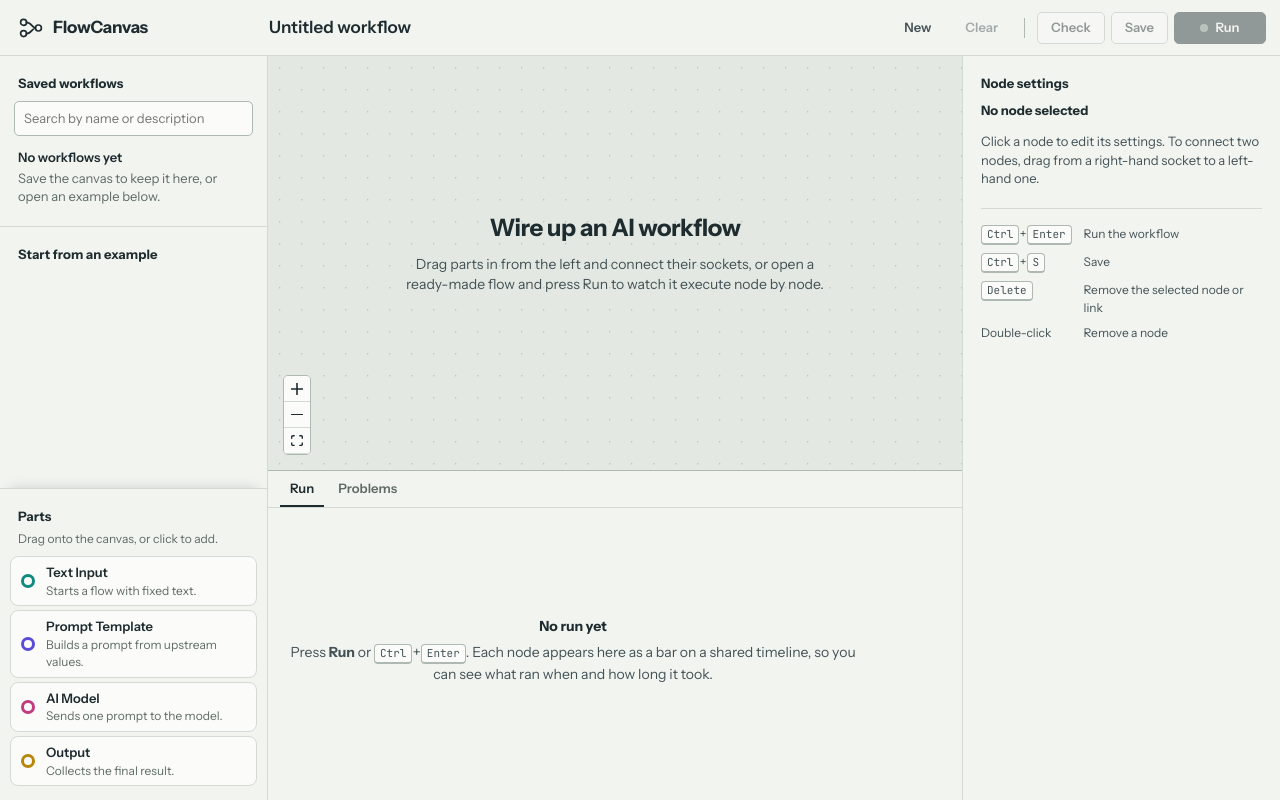
Test: App › shows the run results panel after a successful execution
The width and height of the screenshot is (1280, 800).
Click the button with test id "add-node-TEXT_INPUT" at (134, 581), box [10,556,257,606]
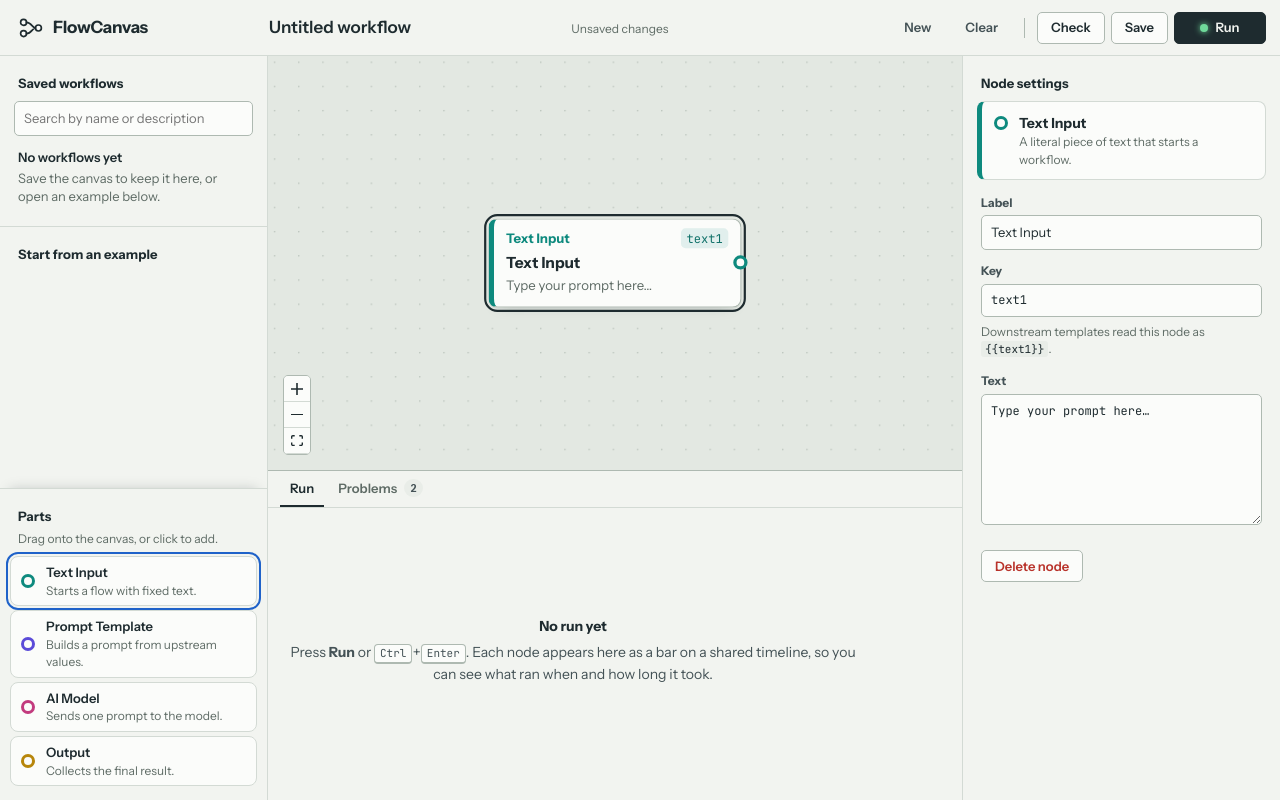
Click the button with test id "run-workflow" at (1220, 28), box [1174,12,1266,44]
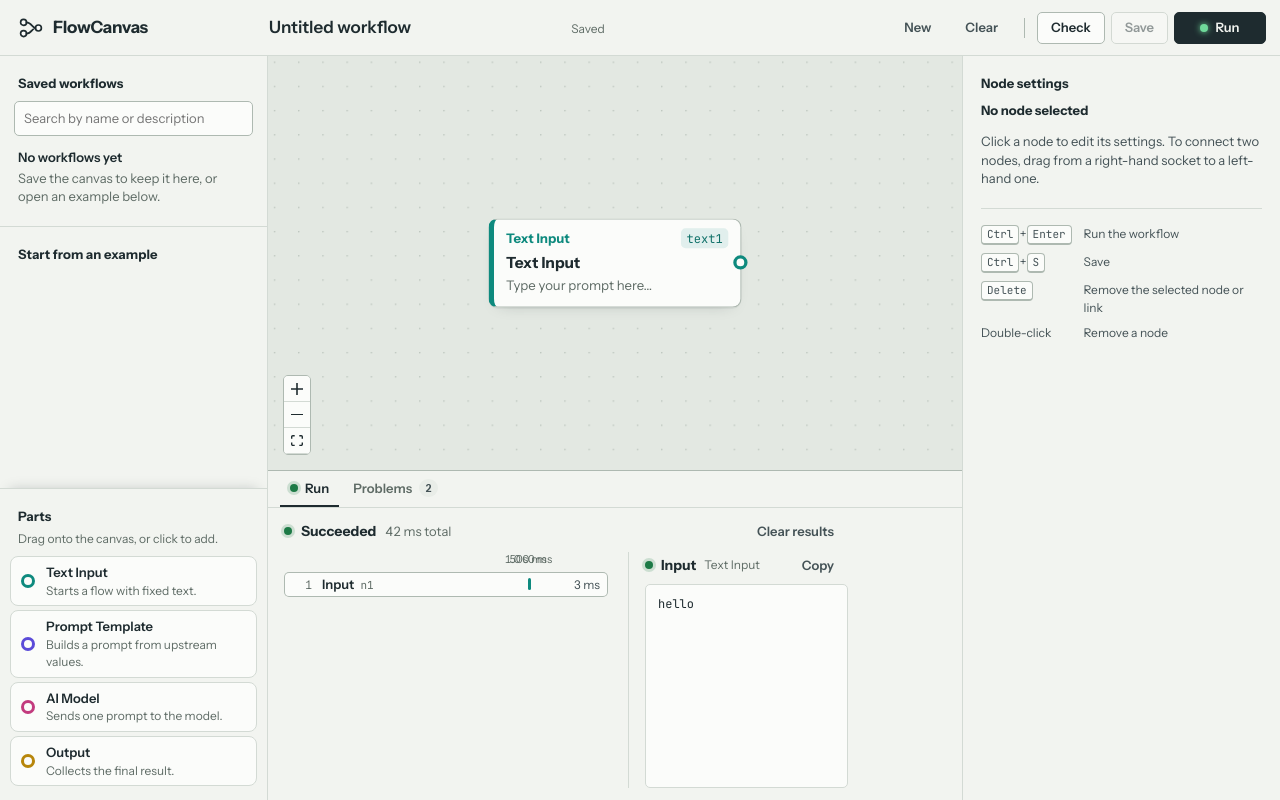
Check: the element with test id "run-panel" is shown, box [284,518,848,788]
Check: the text "hello" is shown, box [645,584,848,788]
